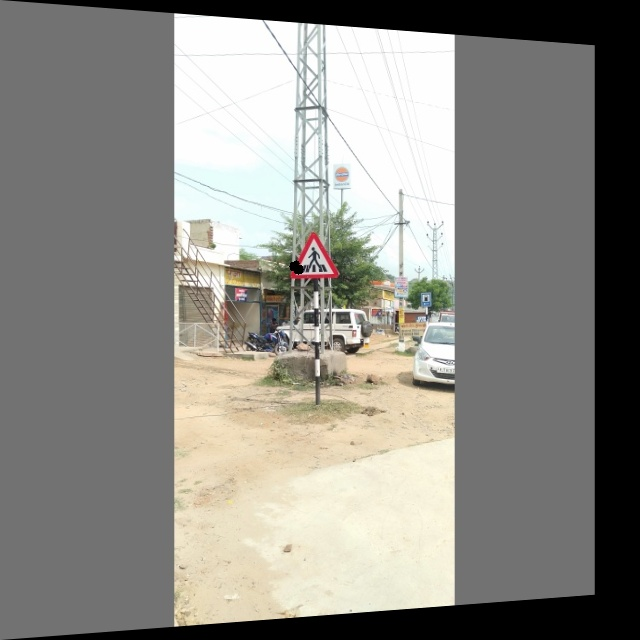Pedestrian_Crossing: (287, 229, 342, 284)
